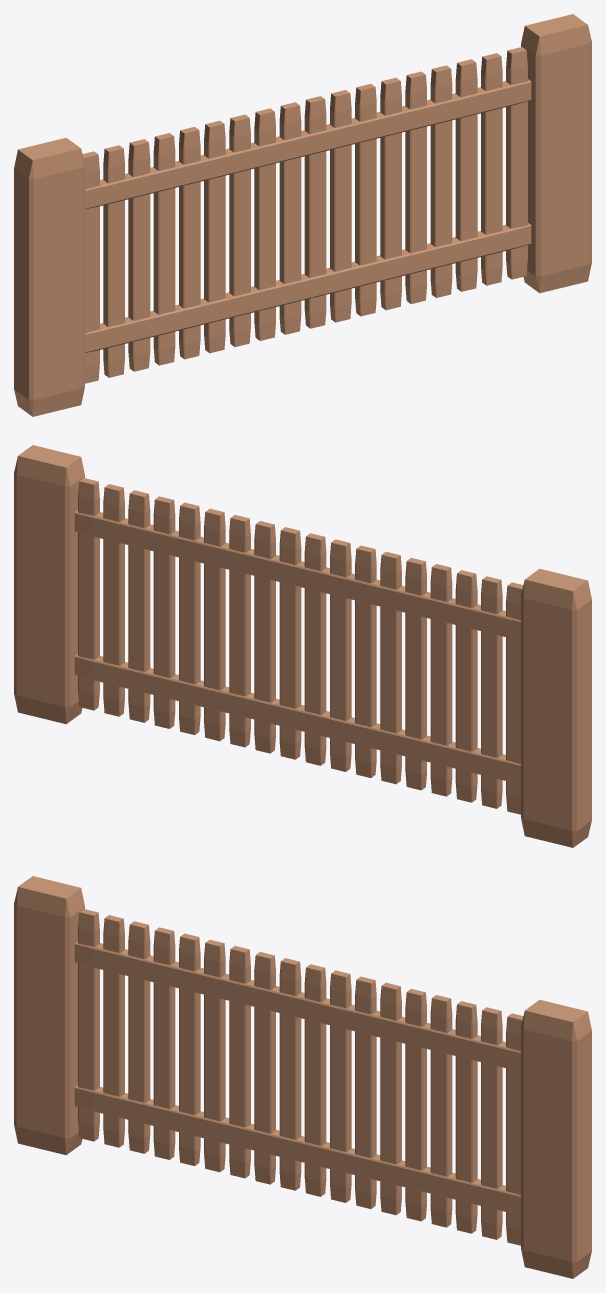
Rendered from b19_accordion_industrial_gate.glb.
The picture shows the model from 3 angles, top to bottom: view 1: azimuth 30°, elevation 25°; view 2: azimuth 150°, elevation 25°; view 3: azimuth 330°, elevation 25°; orthographic projection.
Visible parts, largest first — view 1: b19_accordion_industrial_gate; view 2: b19_accordion_industrial_gate; view 3: b19_accordion_industrial_gate.
Part boxes in pixels (x1=…): b19_accordion_industrial_gate: x1=14, y1=14, x2=591, y2=416; b19_accordion_industrial_gate: x1=14, y1=445, x2=591, y2=847; b19_accordion_industrial_gate: x1=14, y1=876, x2=591, y2=1278.
Size of the model in its own units: 4.2 by 1.83 by 0.223.
